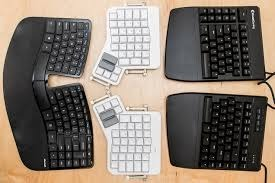keyboard: (6, 10, 94, 180), (164, 90, 269, 173), (167, 5, 266, 82), (90, 98, 162, 182), (96, 7, 162, 89)
